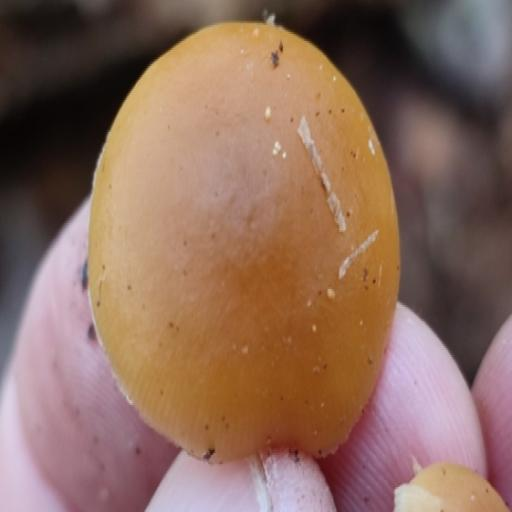Funeral Bell: (86, 18, 401, 457)
